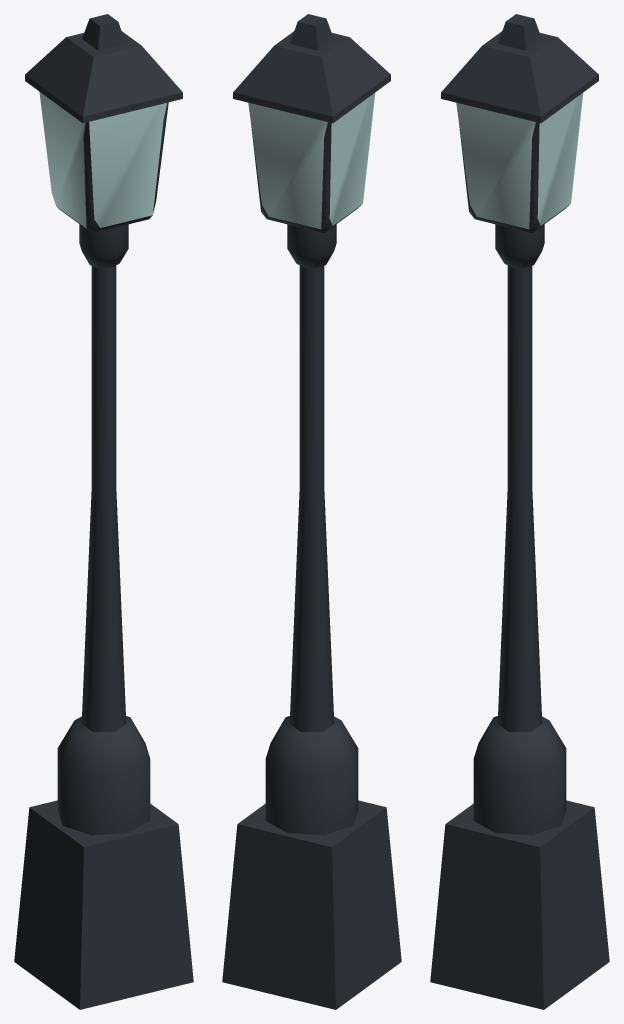
Rendered from ParkLamp.001.gltf.
The picture shows the model from 3 angles, left to right: view 1: azimuth 30°, elevation 25°; view 2: azimuth 150°, elevation 25°; view 3: azimuth 330°, elevation 25°; orthographic projection.
Parts seen in each view (by area): view 1: ParkLamp.001; view 2: ParkLamp.001; view 3: ParkLamp.001.
Part boxes in pixels (box(x1,y1,x2,y2)): ParkLamp.001: box(14, 14, 193, 1009); ParkLamp.001: box(222, 14, 401, 1009); ParkLamp.001: box(430, 14, 609, 1009).
Bounding box in the file's own units: 0.2233 × 1.78 × 0.2233.
